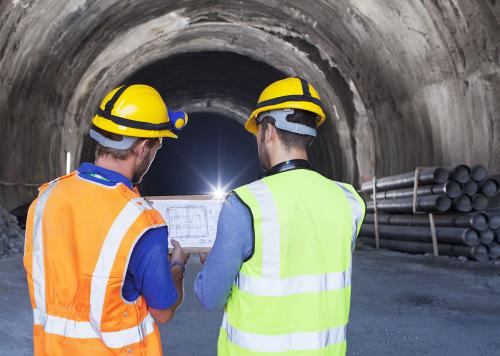hard-hat: (89, 82, 189, 149), (243, 75, 325, 136)
person: (193, 76, 367, 356), (22, 82, 190, 356)
vest: (194, 163, 367, 356), (22, 161, 179, 356)
